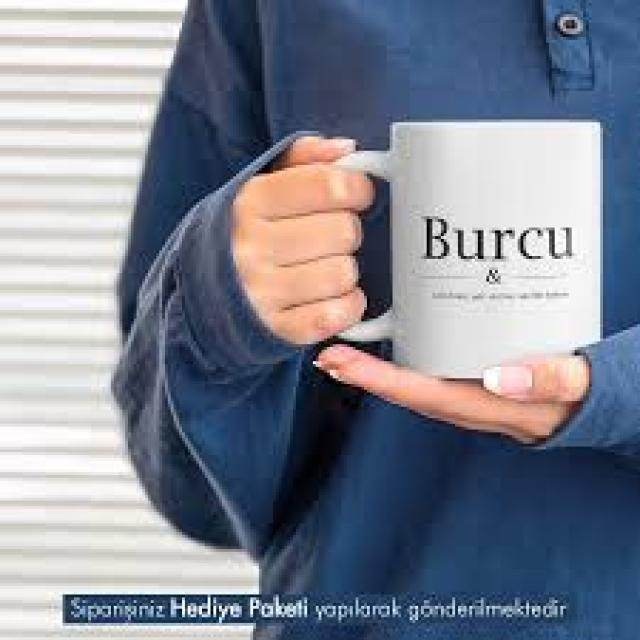taza: (294, 117, 603, 378)
